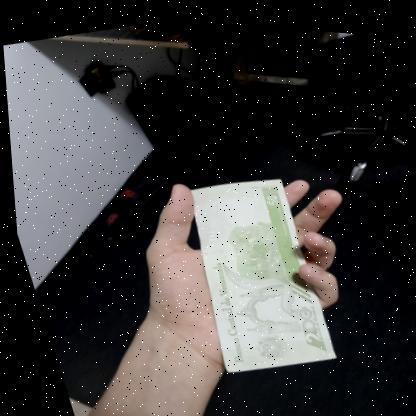fifty-back-vef: (166, 160, 335, 378)
